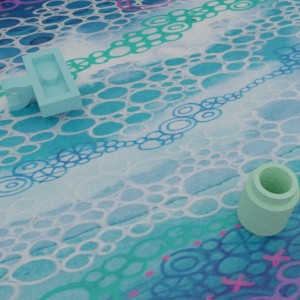lego: (0, 46, 82, 117), (237, 162, 300, 236)
